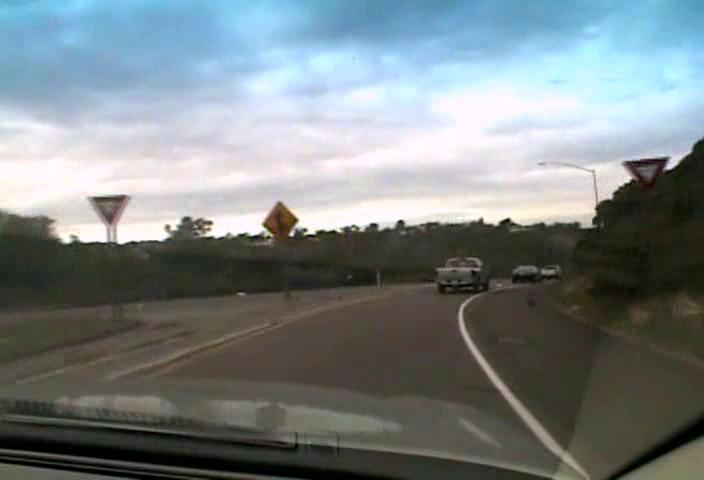yield: (622, 155, 669, 194)
